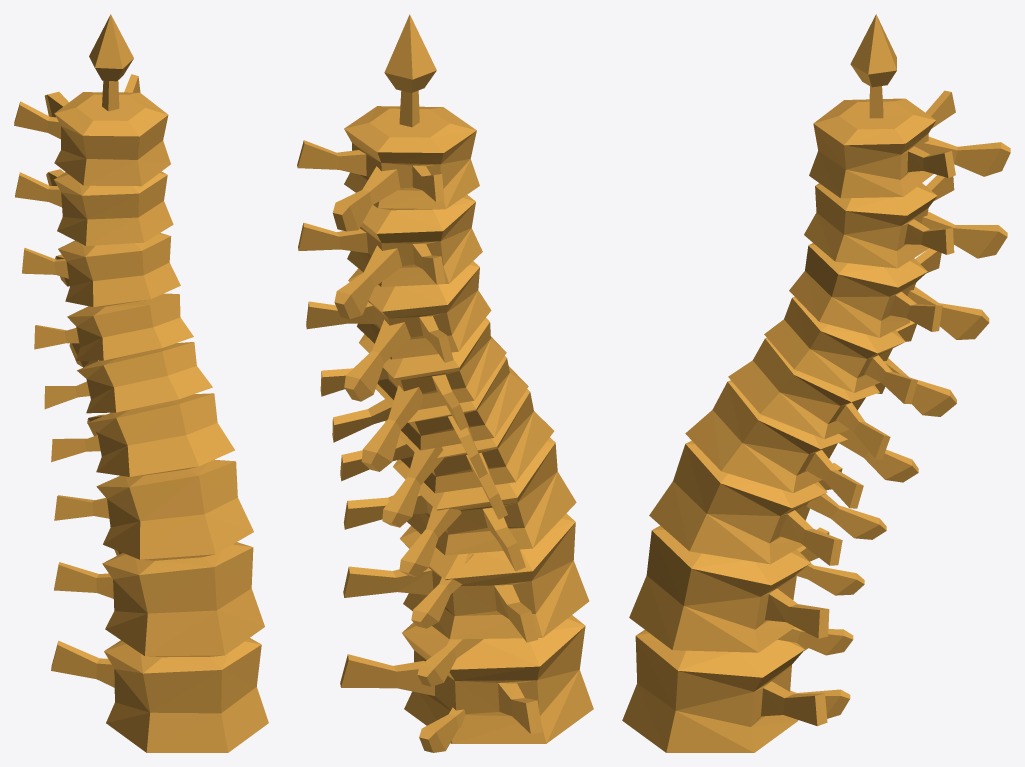
File: candle-spine-lit.fbx
3 renders of one model, left to right at view 1: azimuth 30°, elevation 25°; view 2: azimuth 150°, elevation 25°; view 3: azimuth 270°, elevation 25°, orthographic. The views are drawn at different scales.
Parts seen in each view (by area): view 1: candle-spine-lit; view 2: candle-spine-lit; view 3: candle-spine-lit.
Boxes of the visible parts, <box> form: candle-spine-lit: <box>14,14,268,752</box>; candle-spine-lit: <box>297,14,593,752</box>; candle-spine-lit: <box>622,14,1010,752</box>.
Size of the model in its own units: 0.1535 by 0.5506 by 0.2744.
